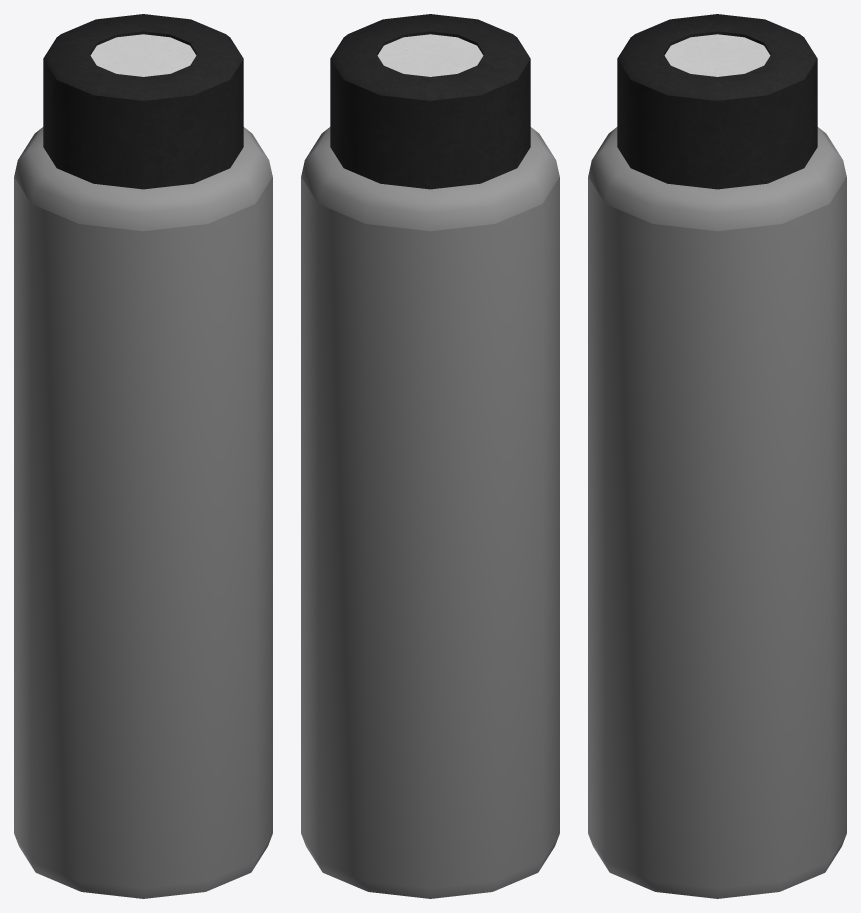
File: SM_顶空瓶.FBX
The picture shows the model from 3 angles, left to right: view 1: azimuth 30°, elevation 25°; view 2: azimuth 150°, elevation 25°; view 3: azimuth 270°, elevation 25°; orthographic projection.
Parts seen in each view (by area): view 1: SM_顶空瓶_瓶体, SM_顶空瓶_盖子; view 2: SM_顶空瓶_瓶体, SM_顶空瓶_盖子; view 3: SM_顶空瓶_瓶体, SM_顶空瓶_盖子.
Boxes of the visible parts, left/top/right/bottom form: SM_顶空瓶_瓶体: left=14, top=127, right=272, bottom=898; SM_顶空瓶_盖子: left=43, top=14, right=243, bottom=189; SM_顶空瓶_瓶体: left=301, top=127, right=559, bottom=898; SM_顶空瓶_盖子: left=330, top=14, right=530, bottom=189; SM_顶空瓶_瓶体: left=588, top=127, right=846, bottom=898; SM_顶空瓶_盖子: left=617, top=14, right=817, bottom=189.
Bounding box in the file's own units: 22.7 × 77.09 × 22.7.
